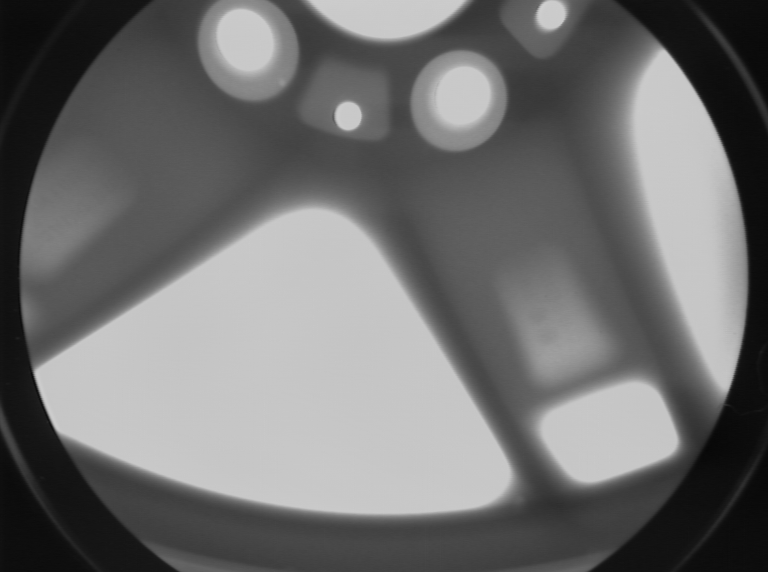defect: (276, 77, 291, 90)
